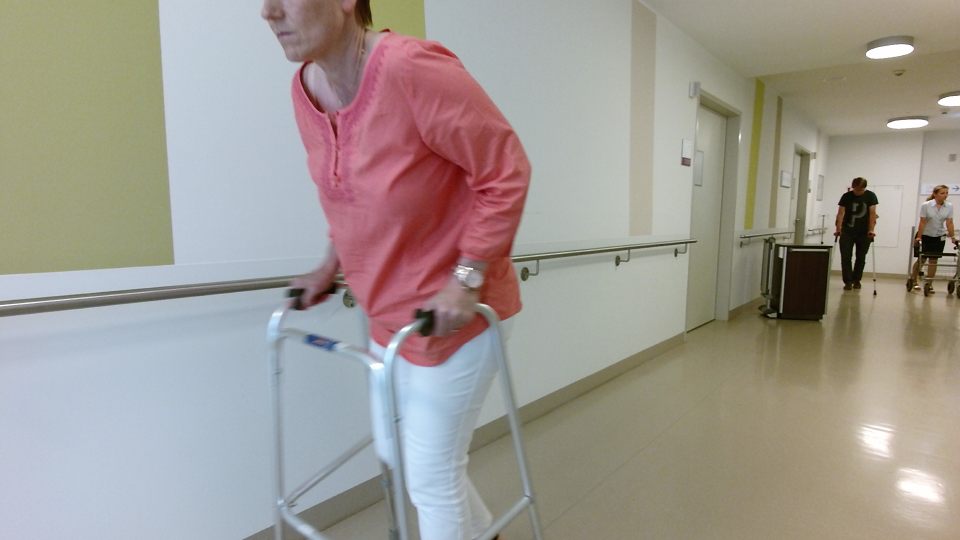crutches: (826, 177, 882, 298)
